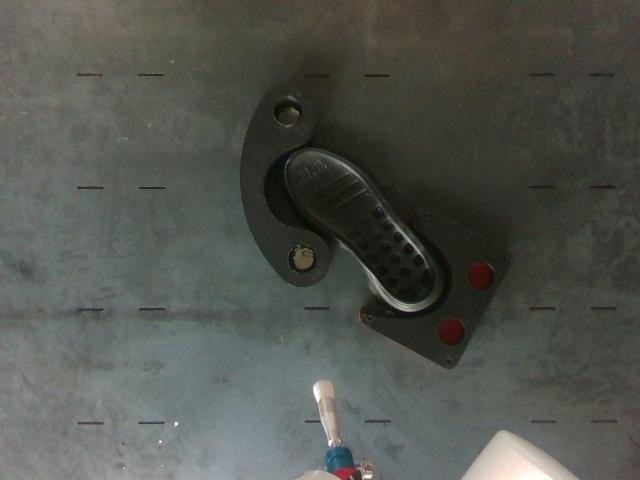shoes: (285, 151, 438, 305)
